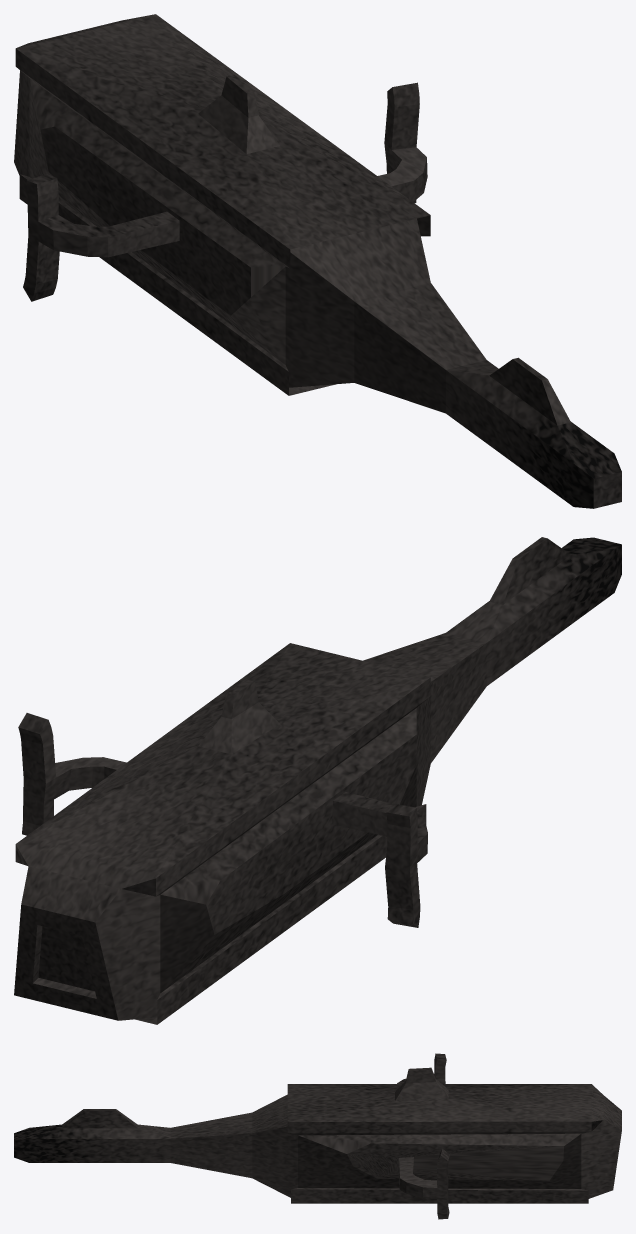
Rendered from turret_2.gltf.
The picture shows the model from 3 angles, top to bottom: view 1: azimuth 30°, elevation 25°; view 2: azimuth 150°, elevation 25°; view 3: azimuth 270°, elevation 25°; orthographic projection. The views are drawn at different scales.
Parts seen in each view (by area): view 1: node_eb020fd7_b393_4ed4_b7e9_31bea3720f2f_mesh0; view 2: node_eb020fd7_b393_4ed4_b7e9_31bea3720f2f_mesh0; view 3: node_eb020fd7_b393_4ed4_b7e9_31bea3720f2f_mesh0.
Boxes of the visible parts, x1=… form: node_eb020fd7_b393_4ed4_b7e9_31bea3720f2f_mesh0: x1=14, y1=14, x2=621, y2=508; node_eb020fd7_b393_4ed4_b7e9_31bea3720f2f_mesh0: x1=14, y1=537, x2=621, y2=1024; node_eb020fd7_b393_4ed4_b7e9_31bea3720f2f_mesh0: x1=14, y1=1053, x2=621, y2=1219.
Bounding box in the file's own units: 0.6874 × 0.3527 × 1.67.
1 material, 1 textured.
